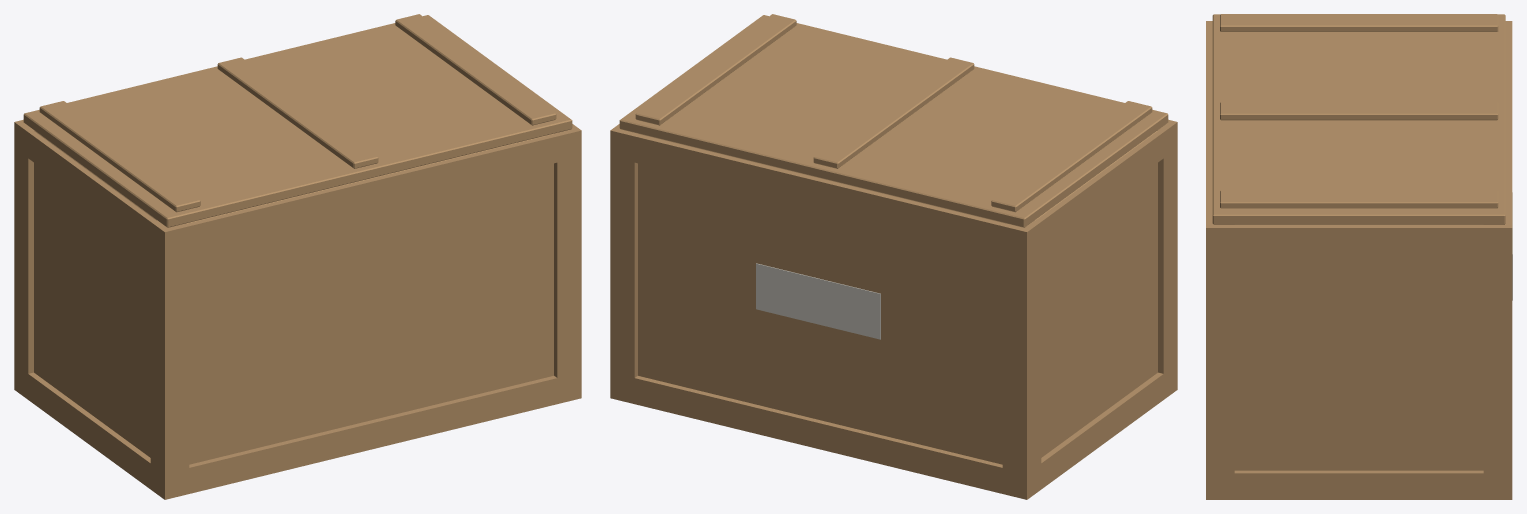
Rendered from prop_crate_hide.glb.
3 renders of one model, left to right at view 1: azimuth 30°, elevation 25°; view 2: azimuth 150°, elevation 25°; view 3: azimuth 270°, elevation 25°, orthographic.
Visible parts, largest first — view 1: Body, LidMesh; view 2: Body, LidMesh; view 3: Body, LidMesh.
Boxes of the visible parts, x1=… form: Body: x1=14, y1=119, x2=581, y2=499; LidMesh: x1=23, y1=14, x2=572, y2=227; Body: x1=610, y1=119, x2=1177, y2=499; LidMesh: x1=619, y1=14, x2=1168, y2=227; Body: x1=1206, y1=21, x2=1512, y2=499; LidMesh: x1=1212, y1=14, x2=1505, y2=224.
Bounding box in the file's own units: 1.34 × 0.87 × 0.838.
